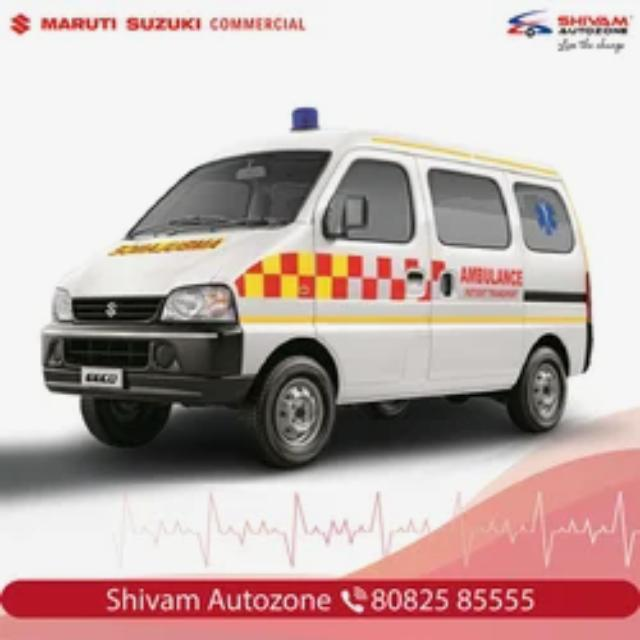ambulance: (41, 108, 591, 466)
